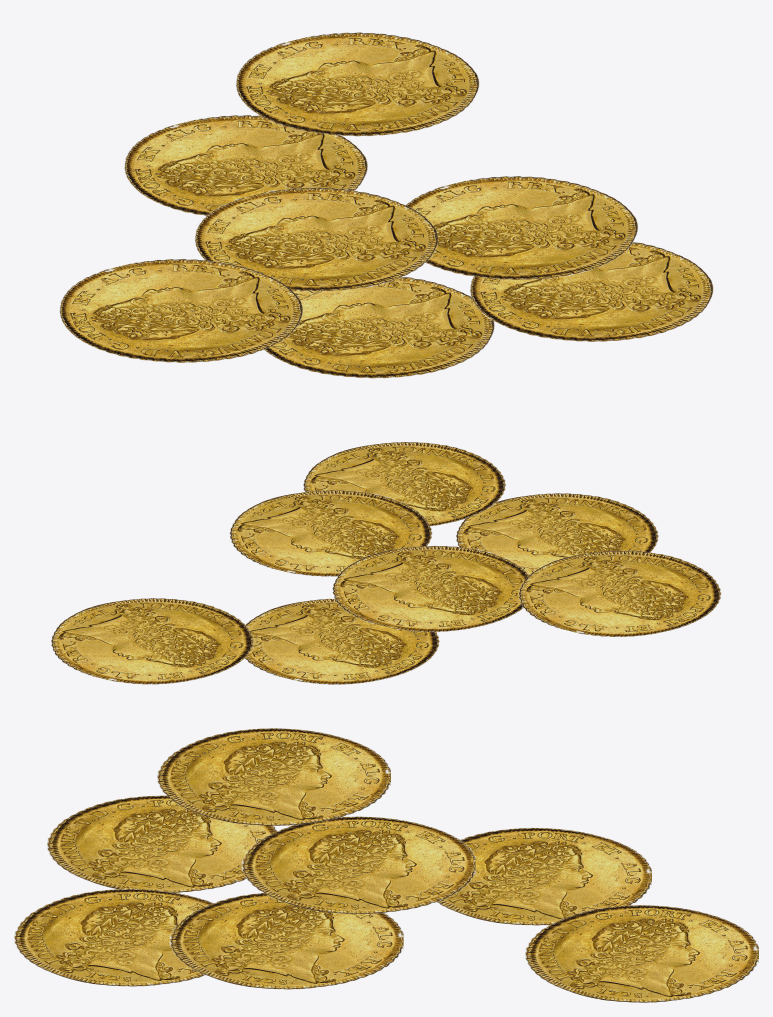
File: moedas2.glb
The picture shows the model from 3 angles, top to bottom: view 1: azimuth 30°, elevation 25°; view 2: azimuth 150°, elevation 25°; view 3: azimuth 270°, elevation 25°; orthographic projection. The views are drawn at different scales.
Parts seen in each view (by area): view 1: moeda.007; view 2: moeda.007; view 3: moeda.007.
Boxes of the visible parts, x1=… form: moeda.007: x1=59, y1=32, x2=713, y2=378; moeda.007: x1=51, y1=442, x2=721, y2=684; moeda.007: x1=14, y1=728, x2=758, y2=1002.
Bounding box in the file's own units: 0.4202 × 0.00425 × 0.4911.
1 material, 1 textured.
